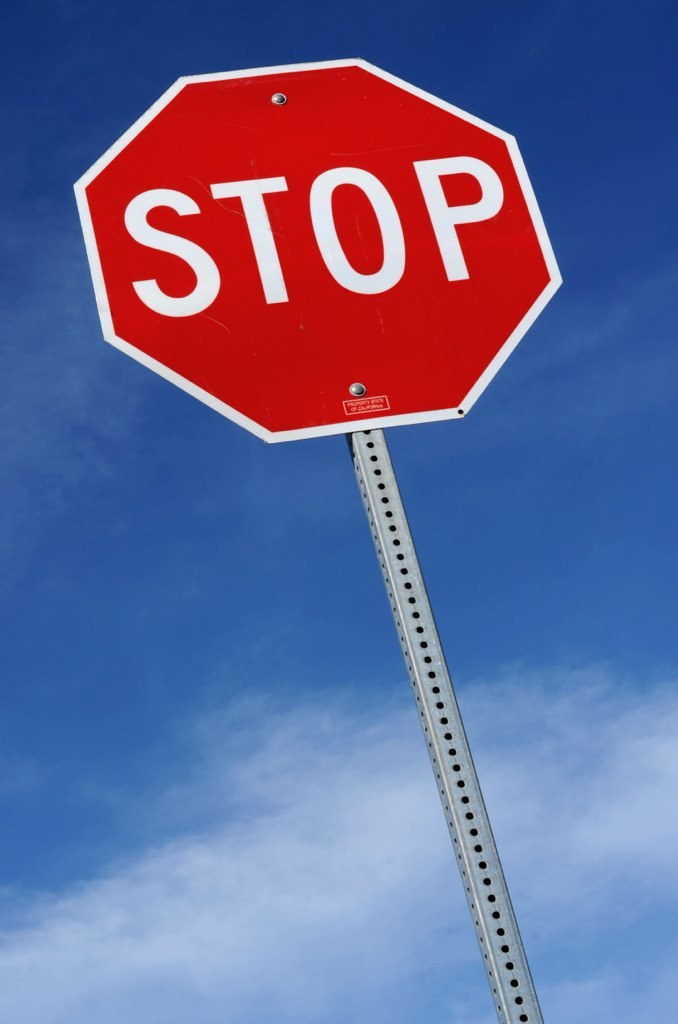stop_sign: (76, 56, 562, 437)
